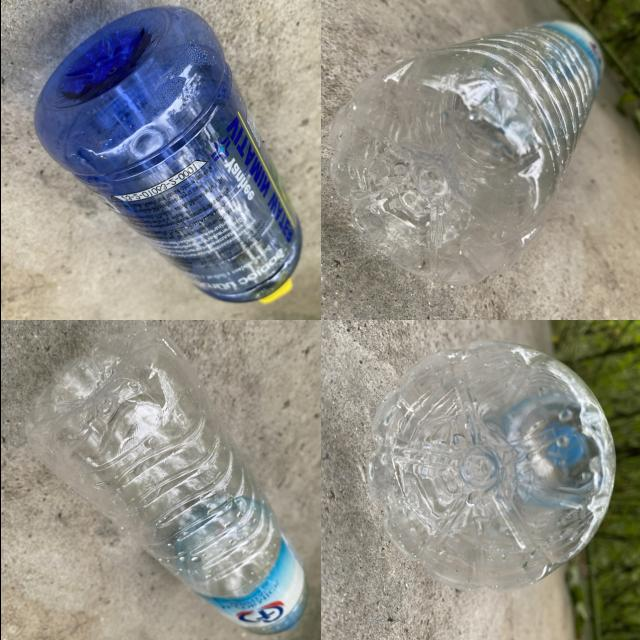plastik: (26, 328, 307, 634), (35, 7, 301, 304), (329, 21, 602, 285), (367, 341, 614, 589)
